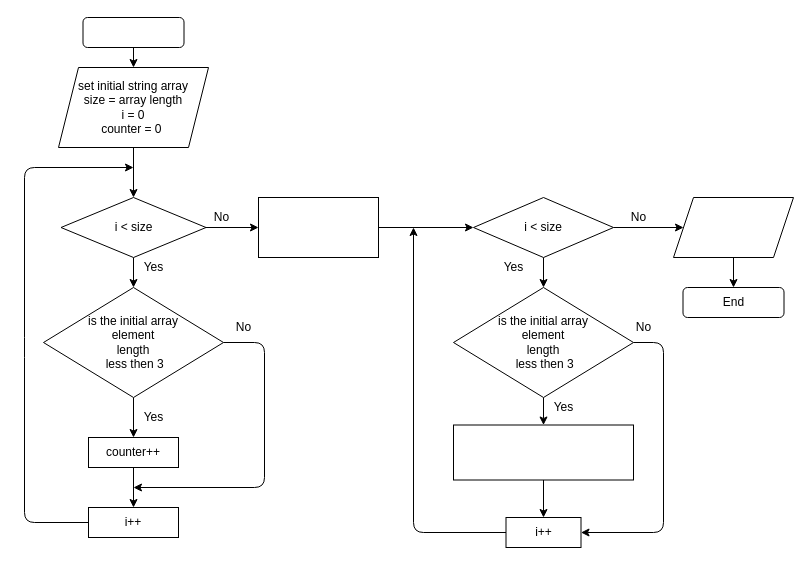
Some shapes in this 811 by 565 pixel diagram are drawn without their labels. Here are the shapes that lost their labels. From the top down, the box of each, then its label:
(82, 16, 184, 48): Start
(258, 196, 378, 258): set result string array with length = counter i = 0
(672, 196, 794, 258): show initial array show result array
(452, 424, 634, 480): result array element = initial array element
